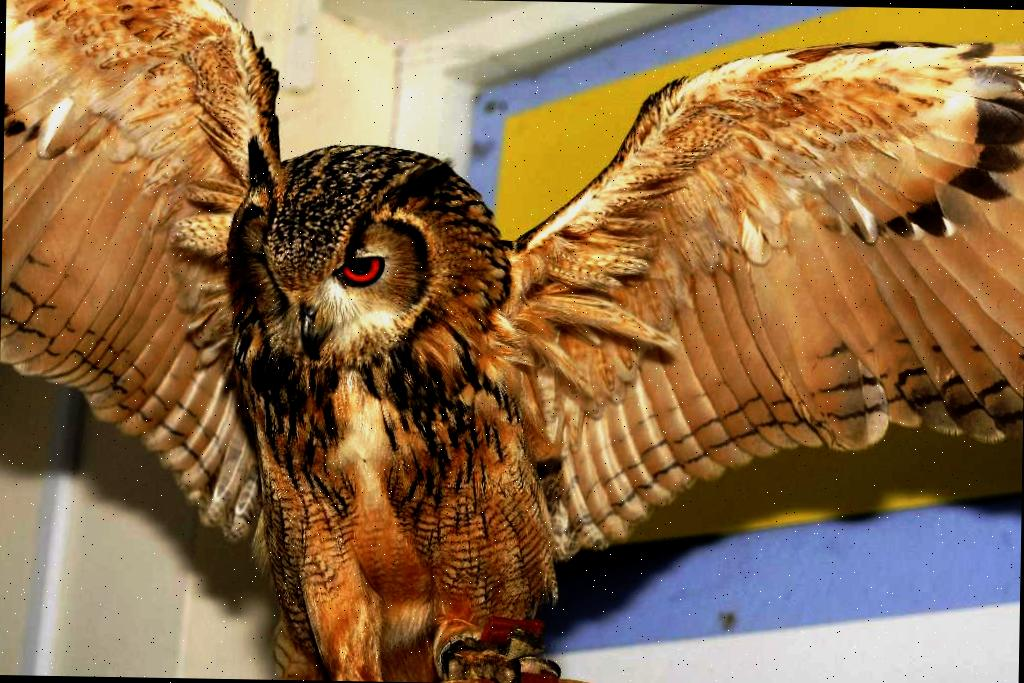Owl: (98, 52, 836, 658)
